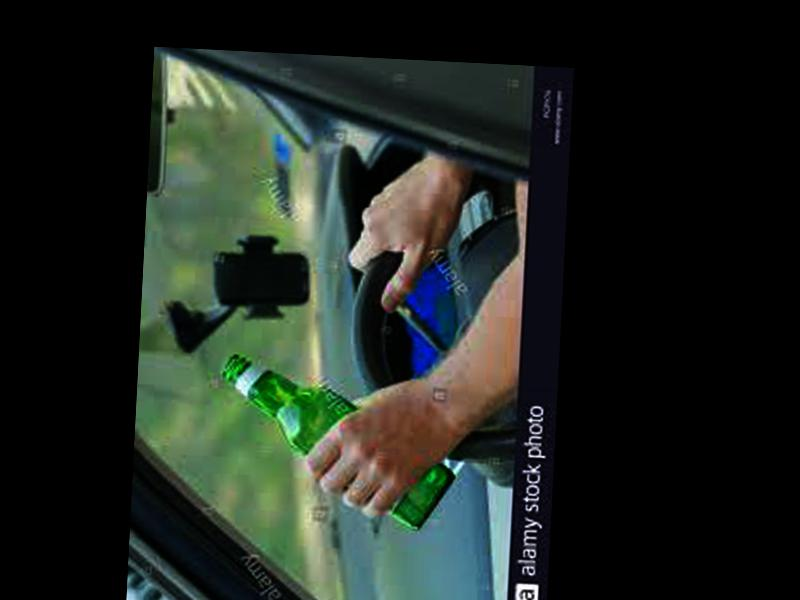Beer: (218, 356, 463, 526)
